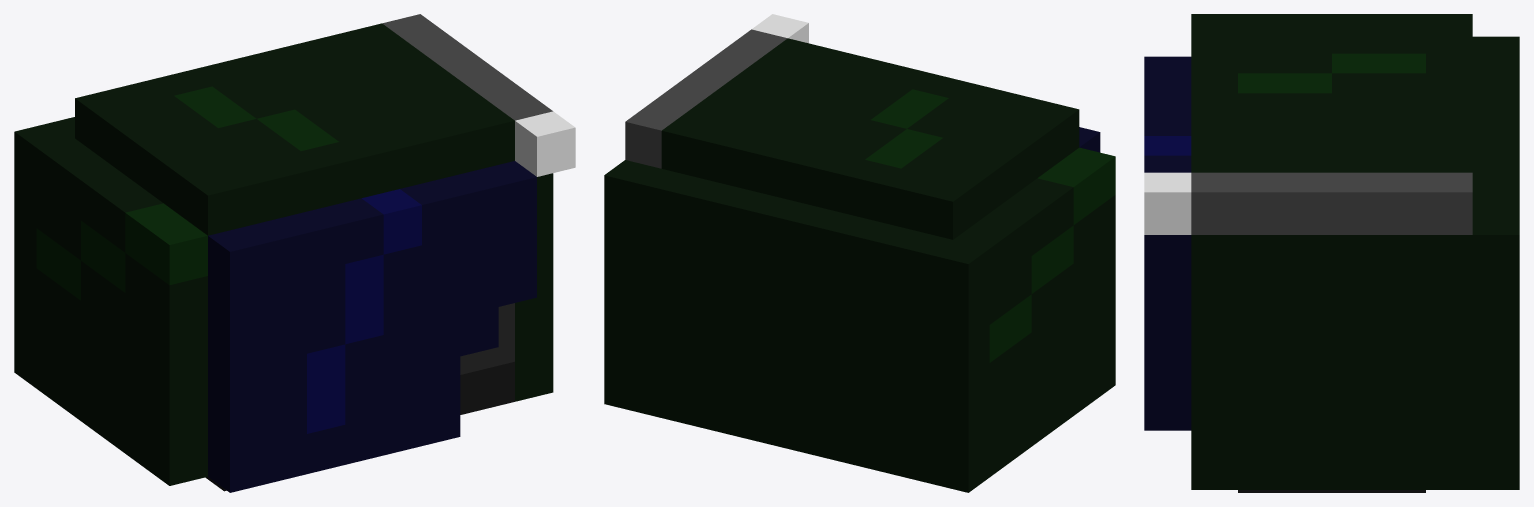
The model's file is grenade launcher-4.obj.
3 renders of one model, left to right at view 1: azimuth 30°, elevation 25°; view 2: azimuth 150°, elevation 25°; view 3: azimuth 270°, elevation 25°, orthographic. The views are drawn at different scales.
Size of the model in its own units: 1 by 0.8 by 0.8.
1 material, 1 textured.
